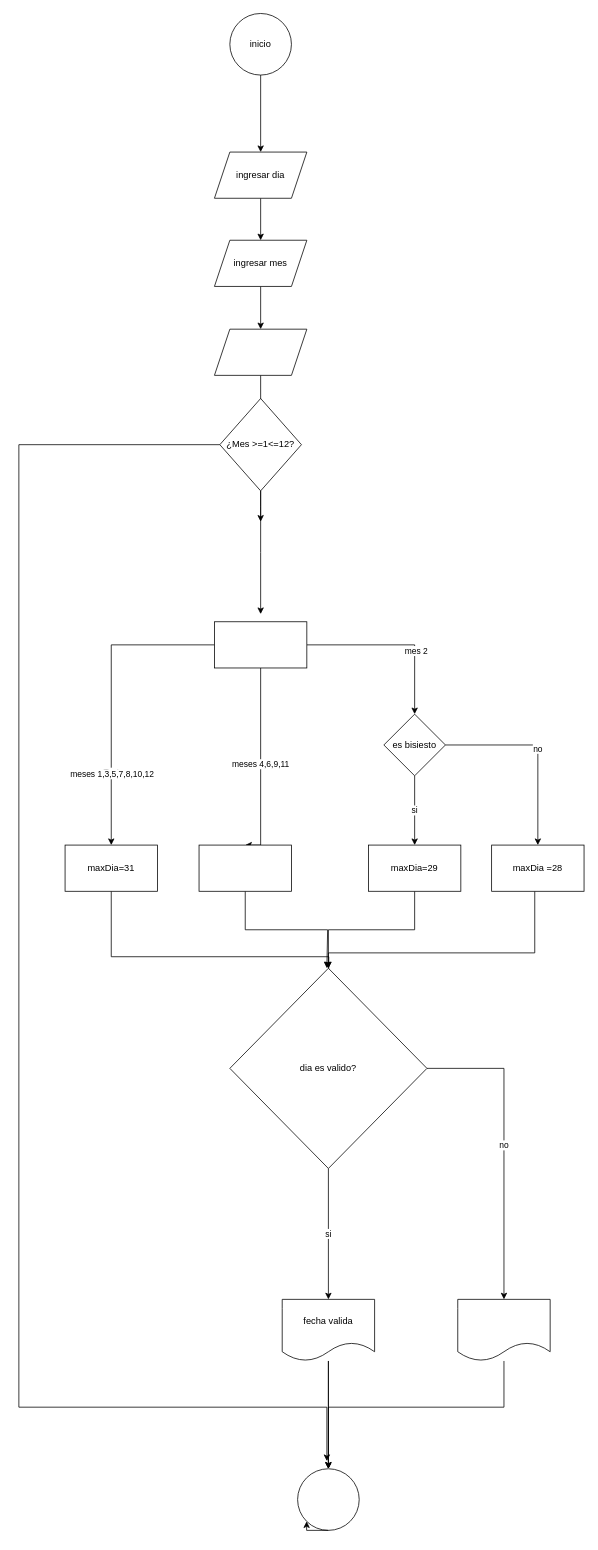
This 598x1550 diagram has some shape labels left out. Each missing label, with the box of its shape:
calculo maxDia segun mes: (214, 621, 307, 668)
fecha invalida: (457, 1299, 550, 1361)
fin: (297, 1468, 359, 1530)
ingresar año: (214, 328, 307, 375)
maxDia=30: (198, 844, 291, 891)
